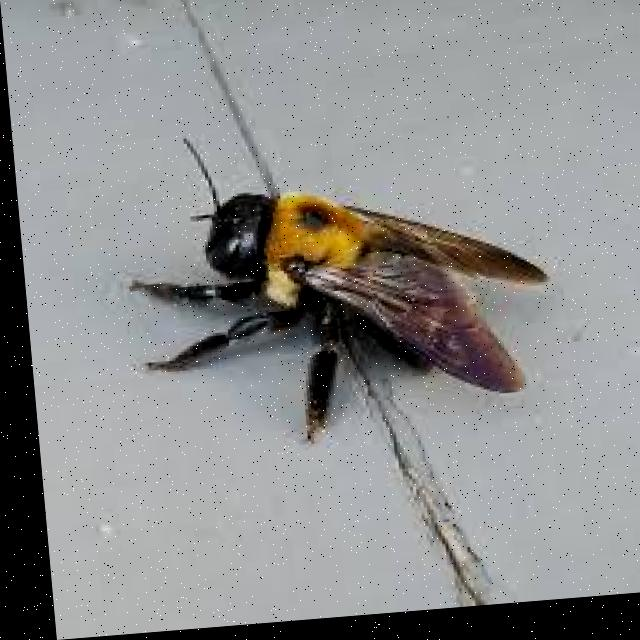Xylocopa: (104, 98, 548, 453)
